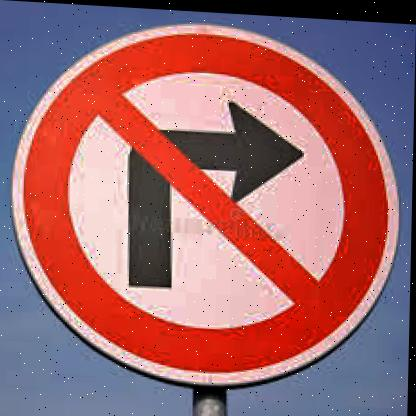No right turn: (10, 9, 407, 393)
